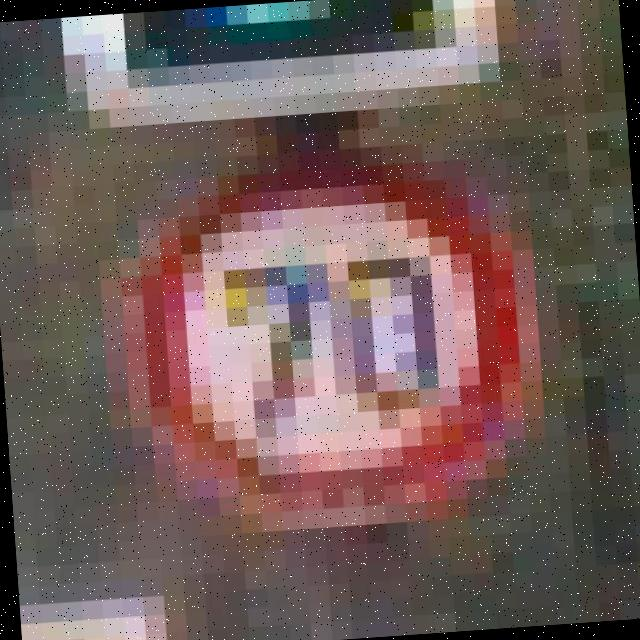Ograniczenie predkosci do 70: (126, 145, 546, 538)
